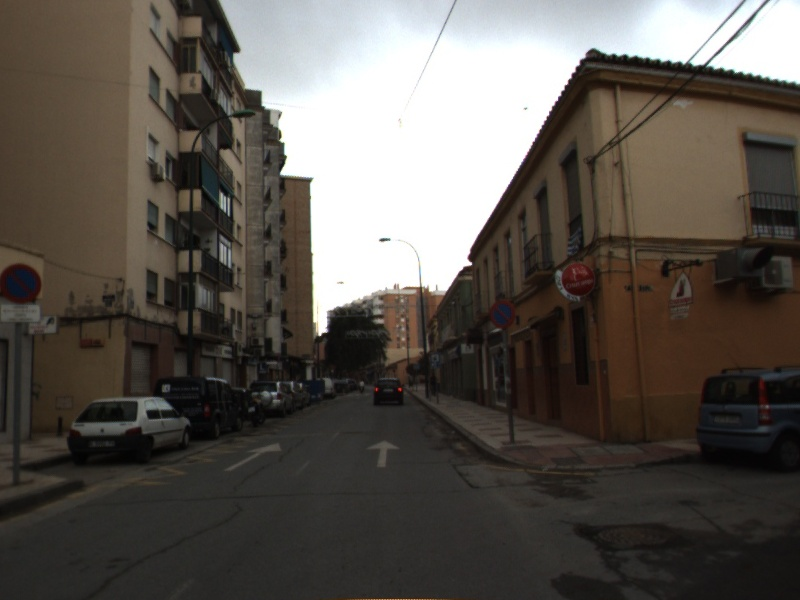STRAIGHT: (221, 439, 285, 473), (363, 437, 404, 470)
